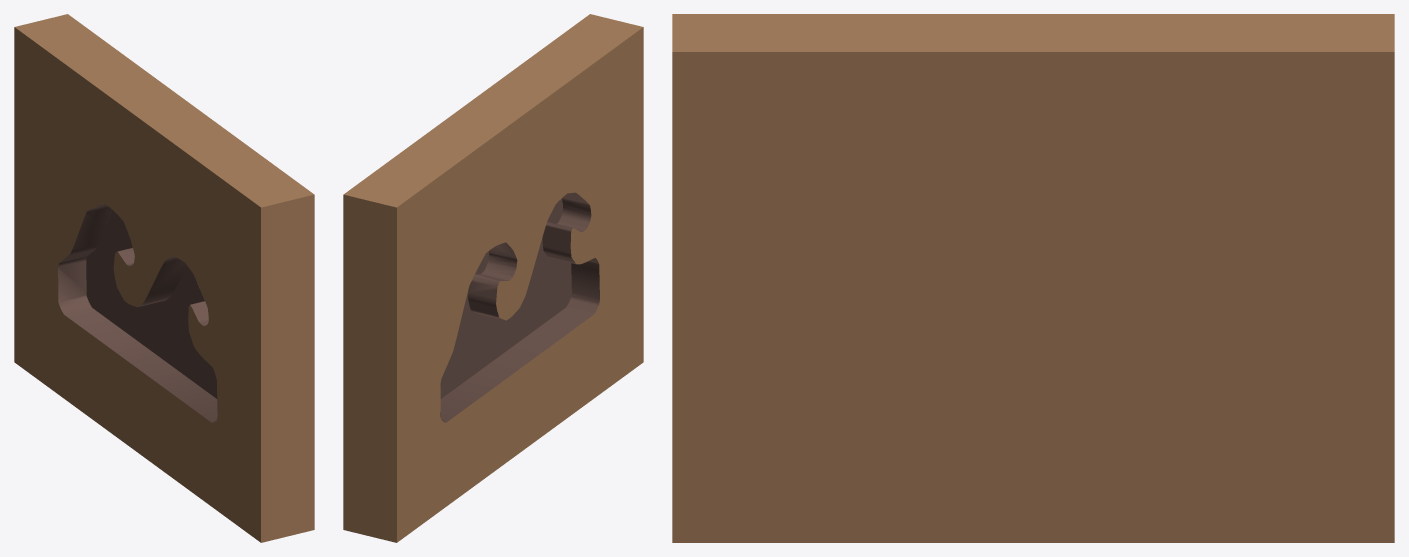
Rendered from SignWater.glb.
The picture shows the model from 3 angles, left to right: view 1: azimuth 30°, elevation 25°; view 2: azimuth 150°, elevation 25°; view 3: azimuth 270°, elevation 25°; orthographic projection. The views are drawn at different scales.
Visible parts, largest first — view 1: Cube; view 2: Cube; view 3: Cube.
Part boxes in pixels (x1,y1,x2,y2): Cube: (14, 14, 314, 542); Cube: (343, 14, 643, 542); Cube: (672, 14, 1394, 542).
Size of the model in its own units: 0.2 by 1.2 by 1.6.
